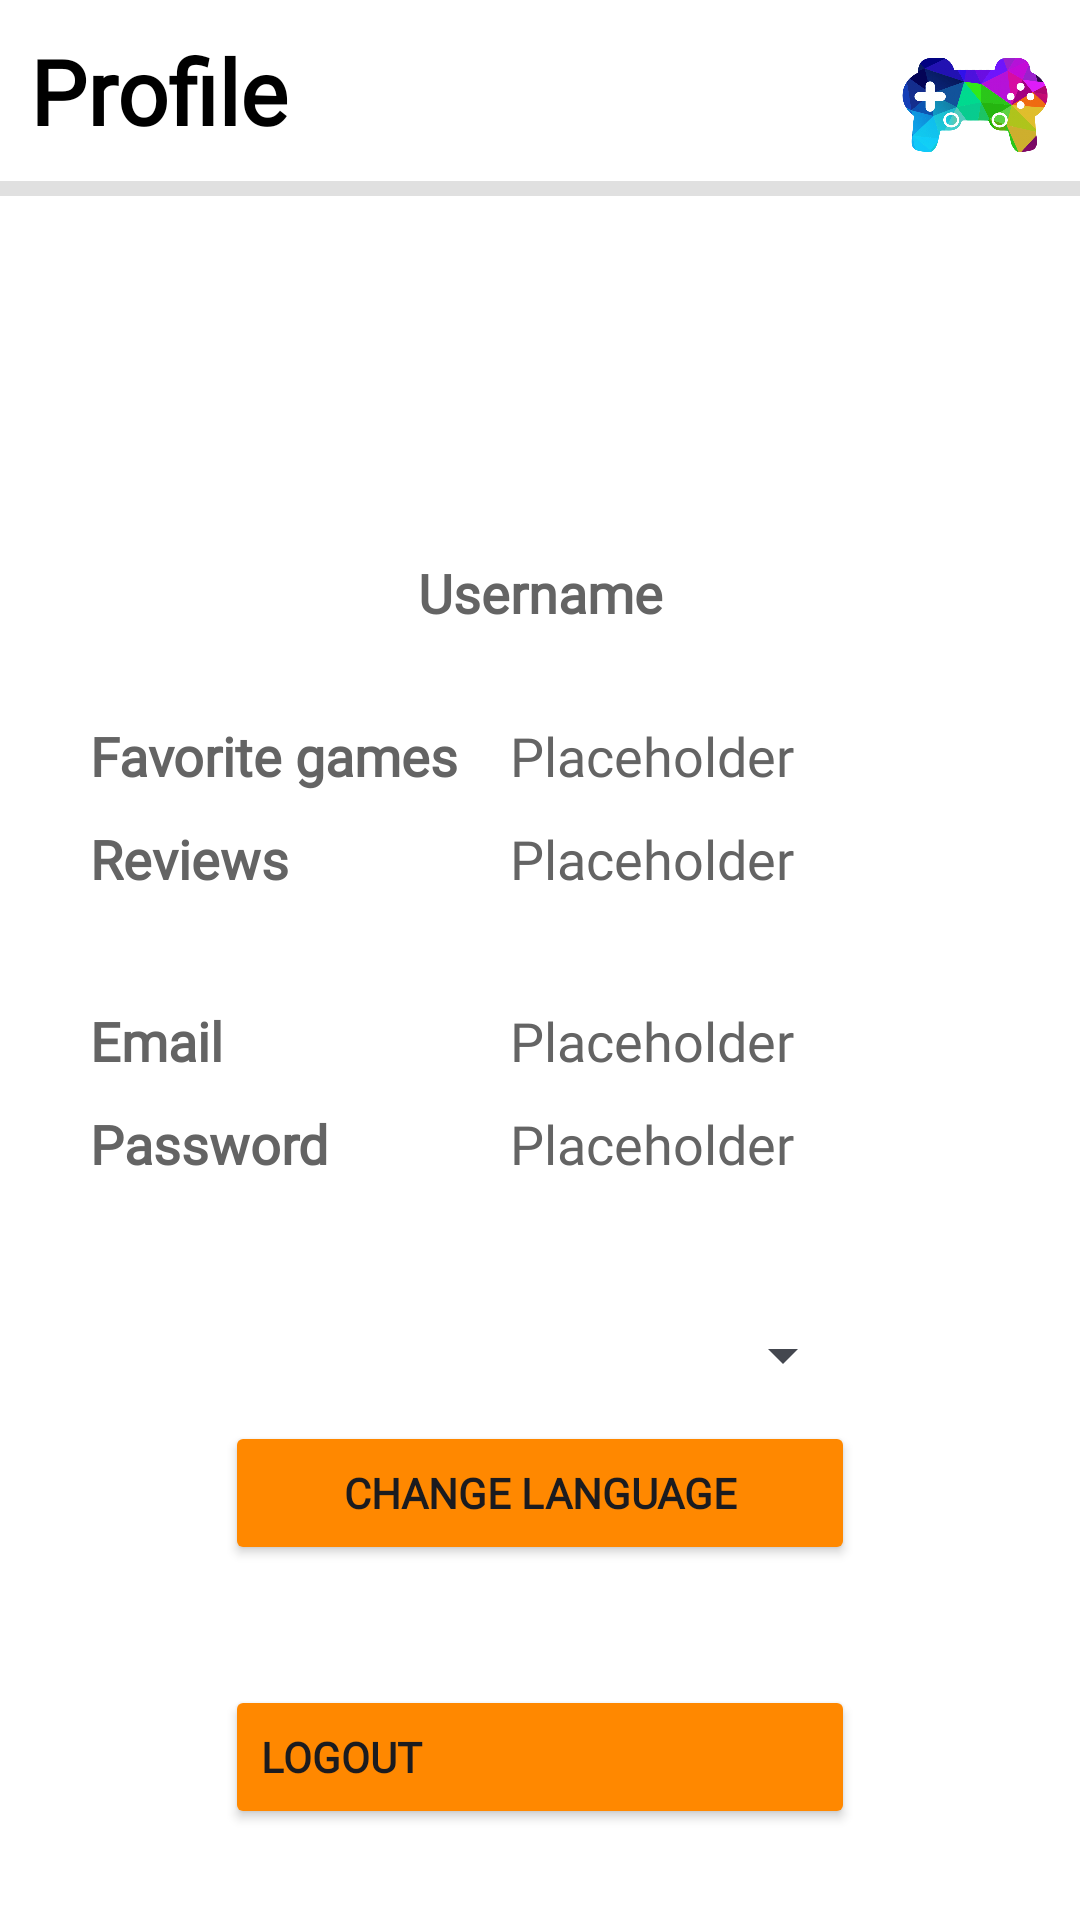

Where icons sit on this 1080w x 1920h app screen, as (x1, y1, x2, y2):
App icon: (902, 58, 1048, 152)
